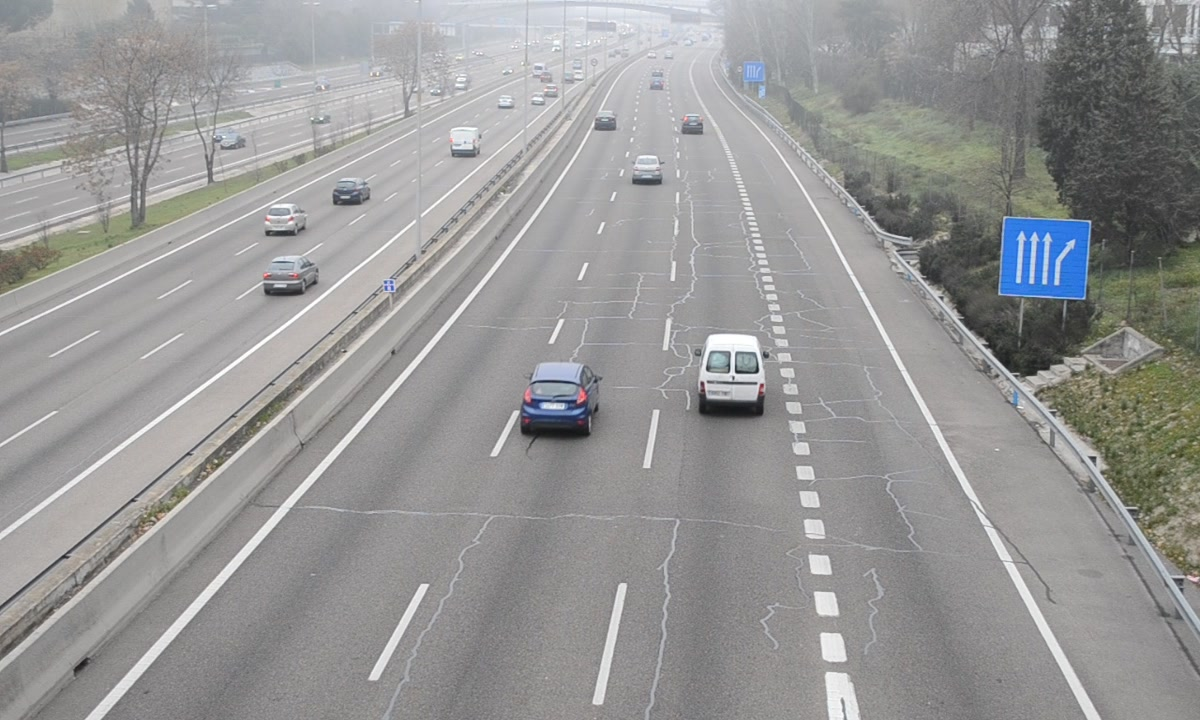car: (522, 362, 598, 431), (631, 155, 663, 183), (593, 108, 618, 131), (681, 114, 704, 134)
van: (697, 334, 766, 417)
